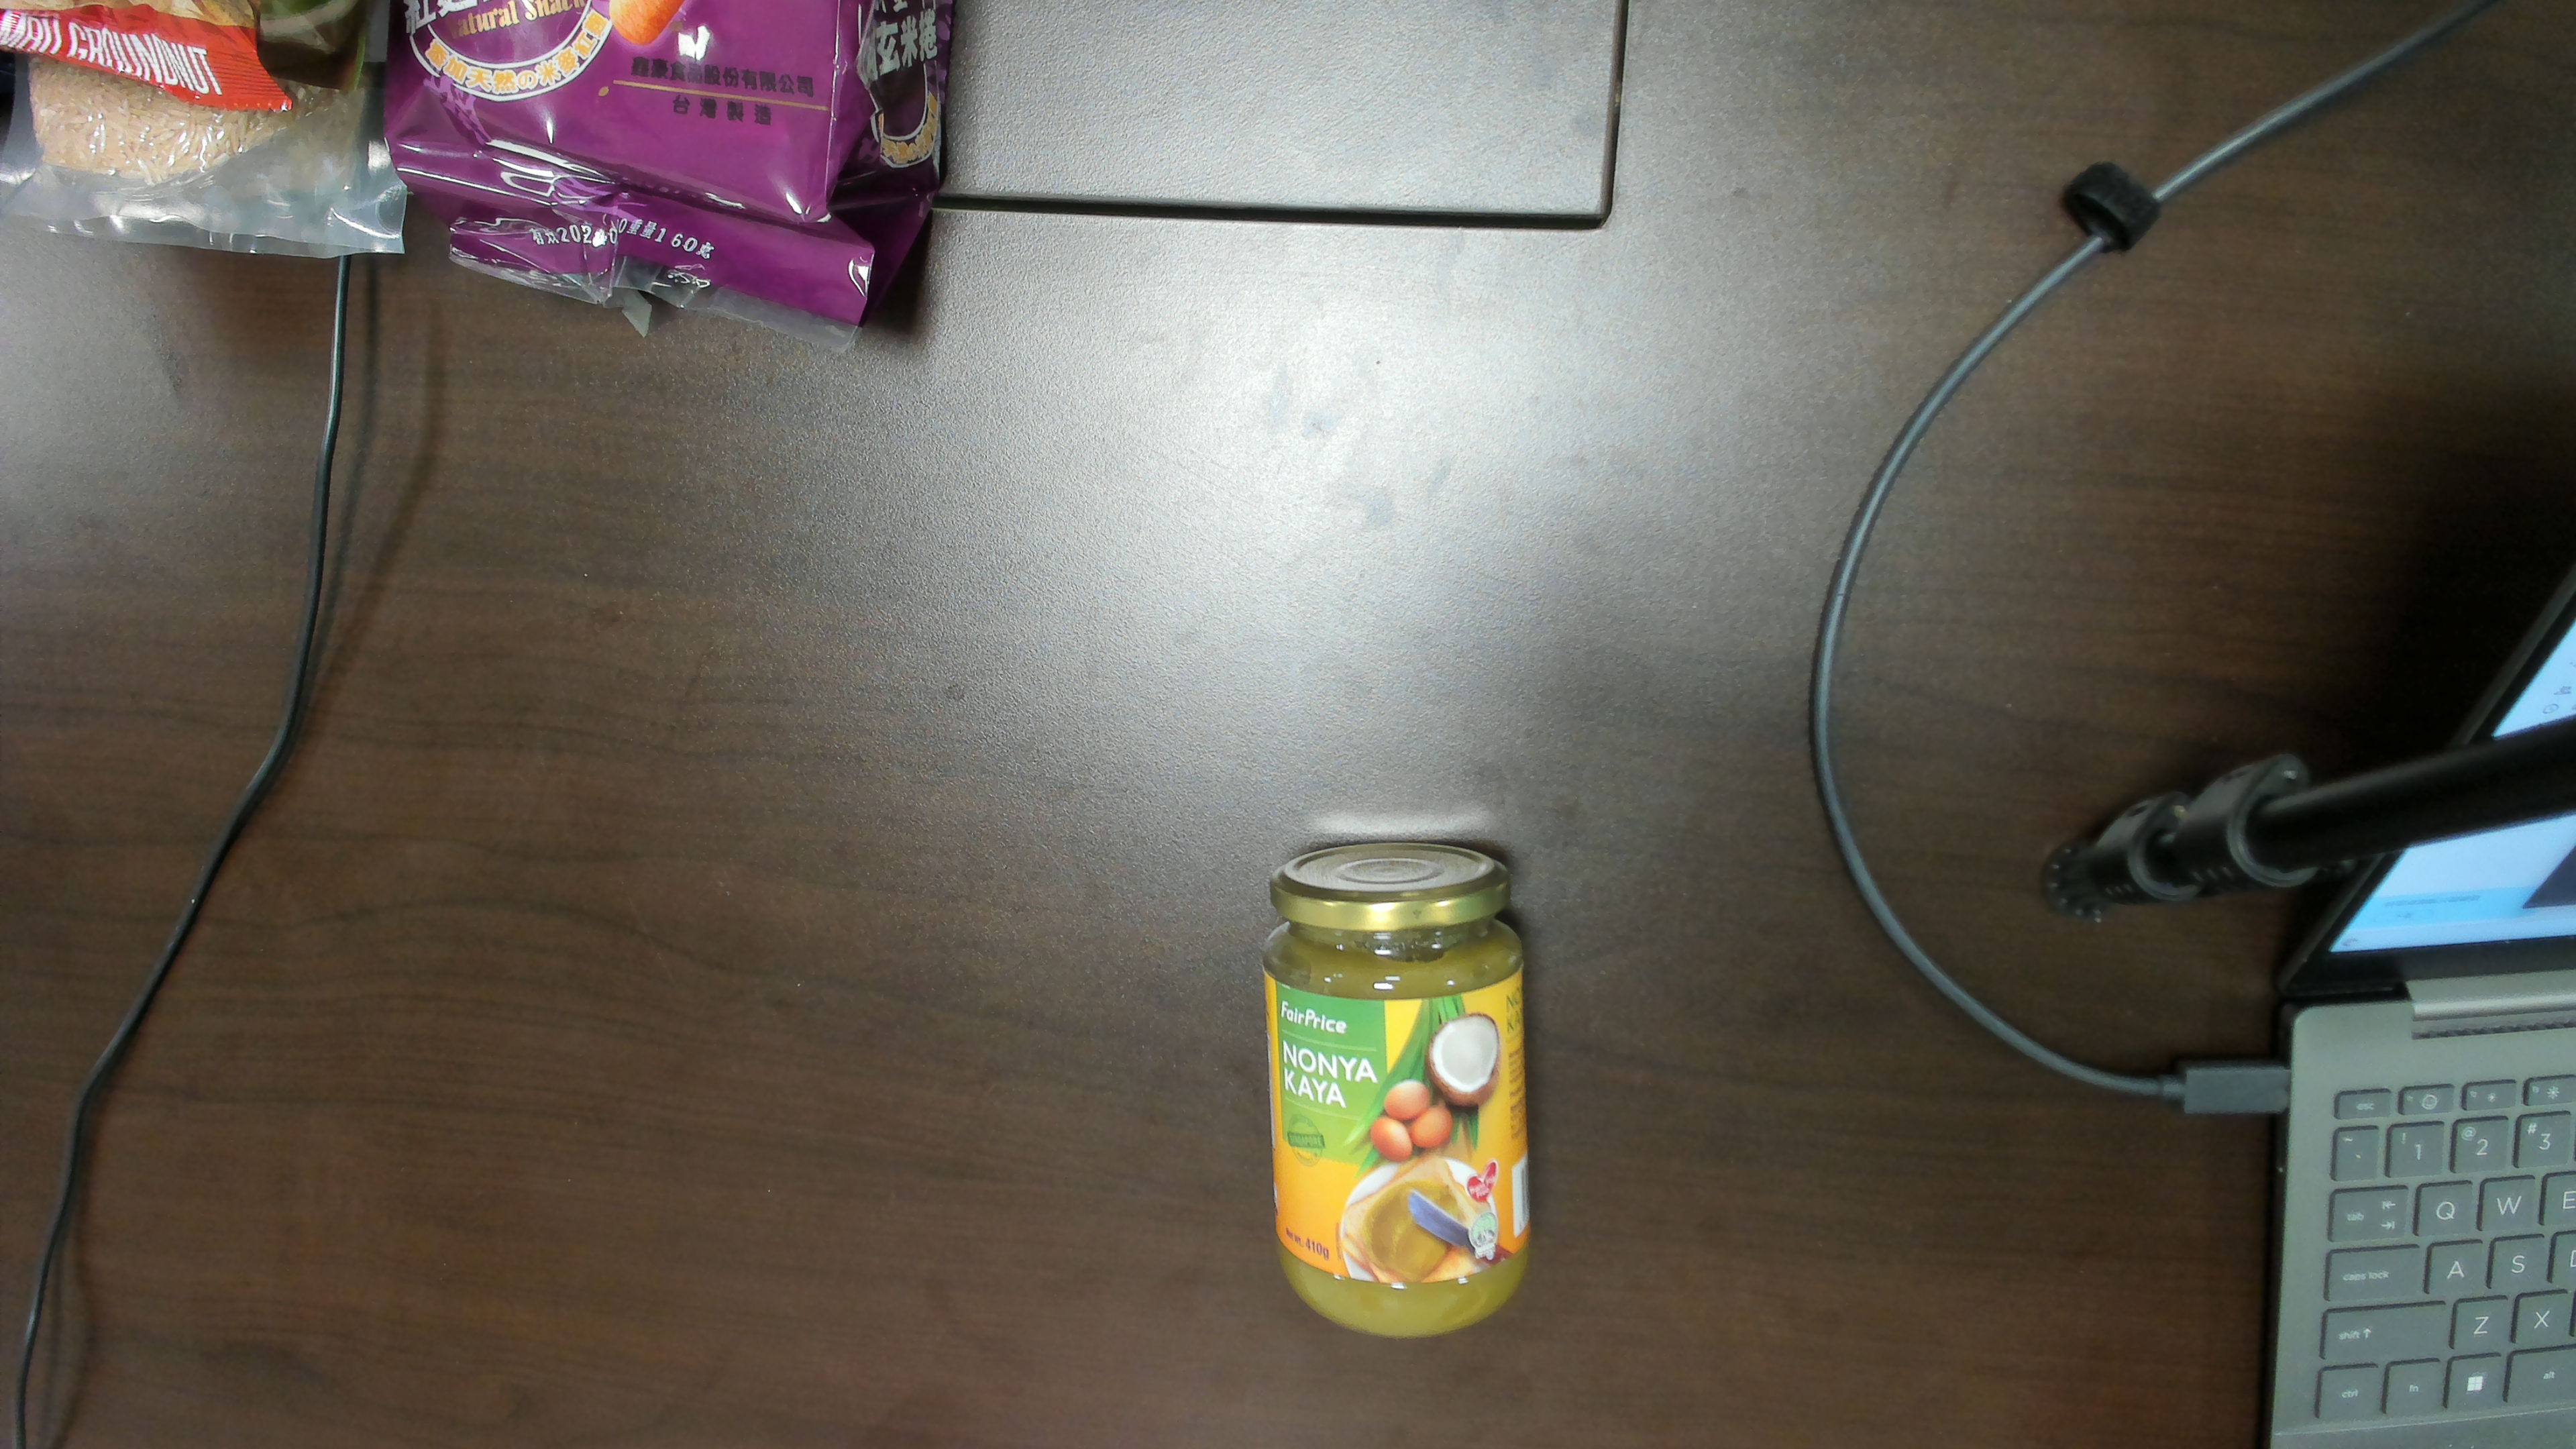Kaya_400-499g_Halal_NonHealthy: (1277, 957, 1516, 1279)
